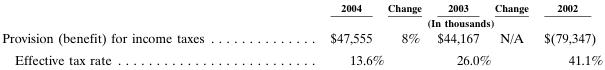table: (1, 0, 602, 67)
table column: (1, 0, 266, 67), (266, 0, 385, 67), (535, 0, 602, 67), (428, 0, 492, 67), (385, 0, 428, 67), (492, 0, 535, 67)
table column header: (1, 0, 602, 28)
table row: (1, 28, 602, 48), (1, 48, 602, 67), (1, 0, 602, 14), (1, 14, 602, 28)
table spanning cell: (266, 14, 602, 28)
